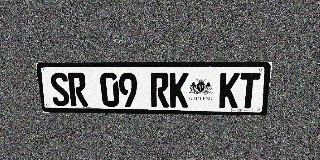0: (100, 73, 120, 107)
9: (118, 73, 138, 107)
K: (219, 73, 240, 108), (170, 73, 189, 108)
R: (67, 73, 88, 106), (150, 73, 169, 107)
S: (49, 73, 70, 106)
T: (238, 73, 261, 108)
